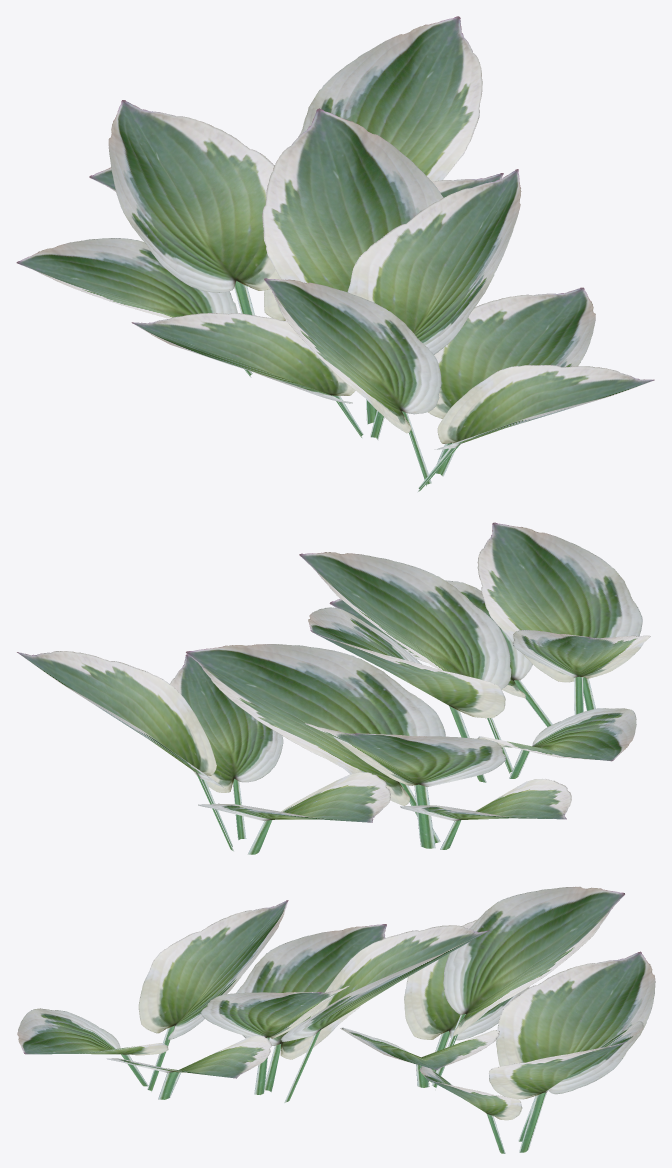
The model's file is plant_small_wg_04W.fbx.
The picture shows the model from 3 angles, top to bottom: view 1: azimuth 30°, elevation 25°; view 2: azimuth 150°, elevation 25°; view 3: azimuth 270°, elevation 25°; orthographic projection. The views are drawn at different scales.
Visible parts, largest first — view 1: plant_small_wg_04W; view 2: plant_small_wg_04W; view 3: plant_small_wg_04W.
Boxes of the visible parts, x1,y1,x2,y2 form: plant_small_wg_04W: (16, 16, 654, 492); plant_small_wg_04W: (17, 522, 650, 854); plant_small_wg_04W: (17, 886, 655, 1153).
Size of the model in its own units: 146 by 61.37 by 182.
